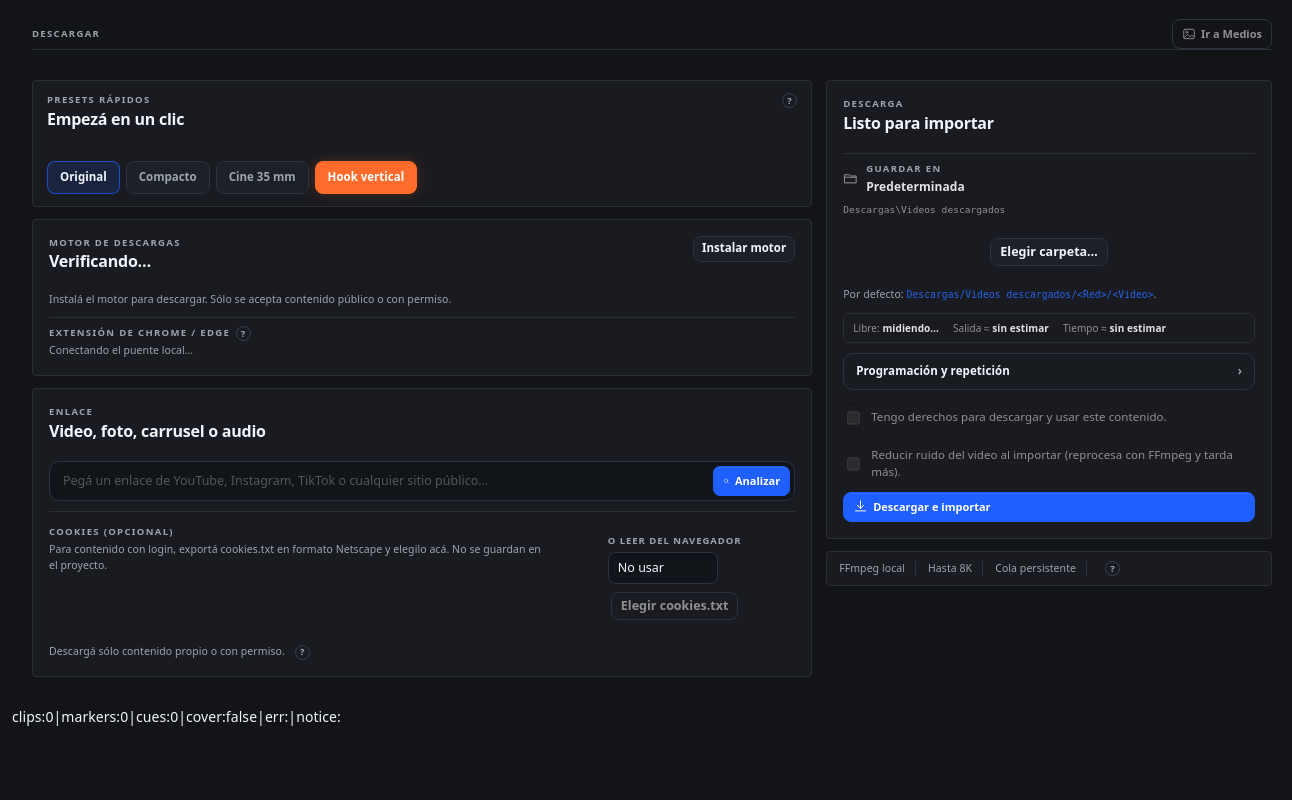
it: descargador · delogo y Lanczos › inserta el clip, los subtítulos y los capítulos en el proyecto
Replace the text in the field named "URL para descargar" with "https://www.youtube.com/watch?v=abc123": (381, 481) [54,466,707,496]
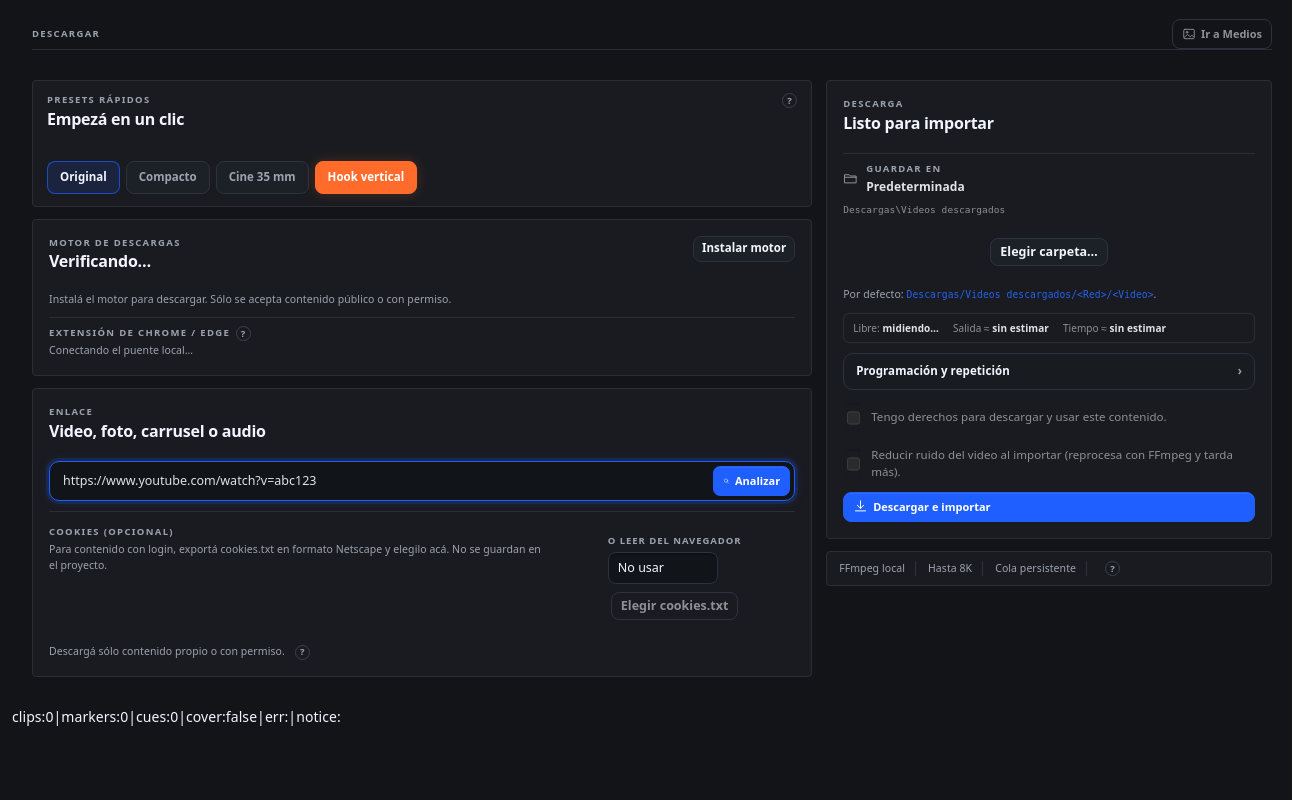
Click the button "Analizar": (752, 481) [713,466,790,496]
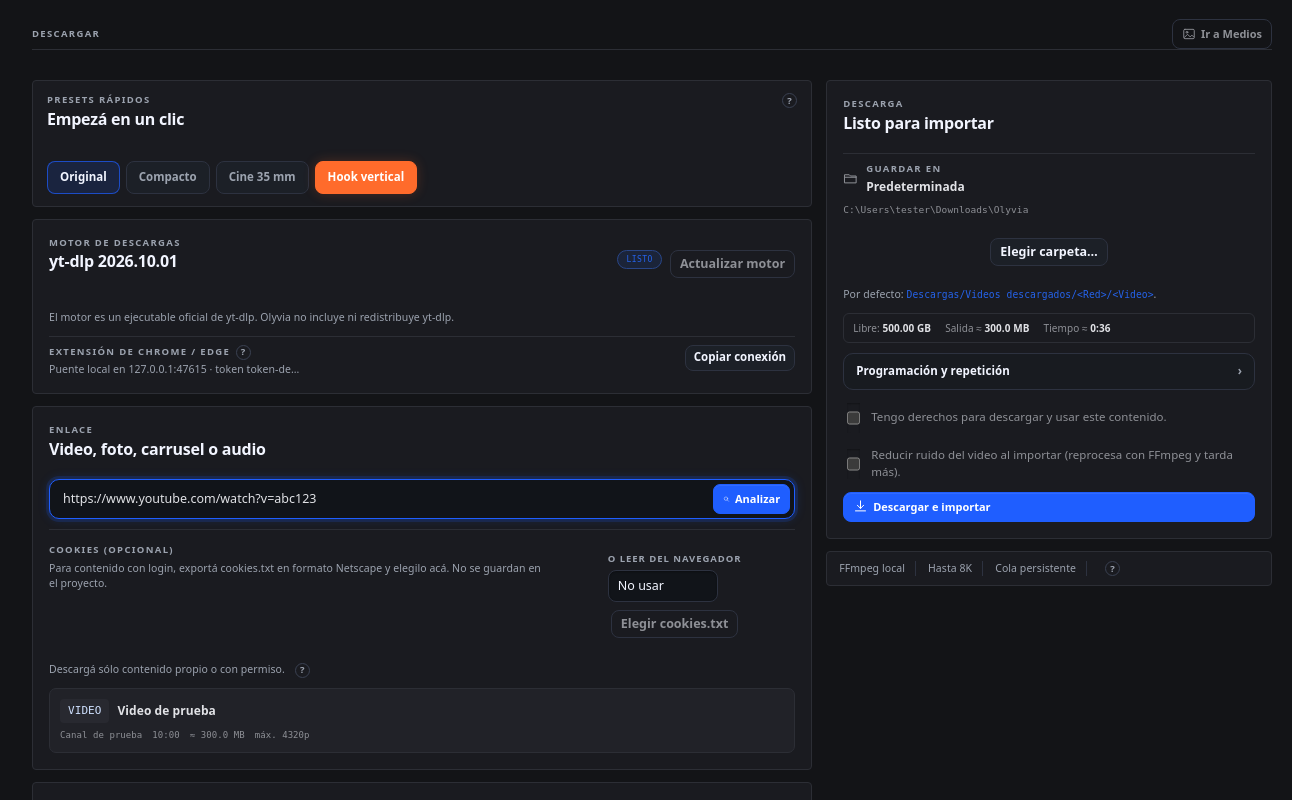
Expected: the text "Video de prueba" is shown, [118,702,216,720]
Click the checkbox labelled "Tengo derechos para descargar y usar este contenido.": (854, 418) [847,403,860,433]
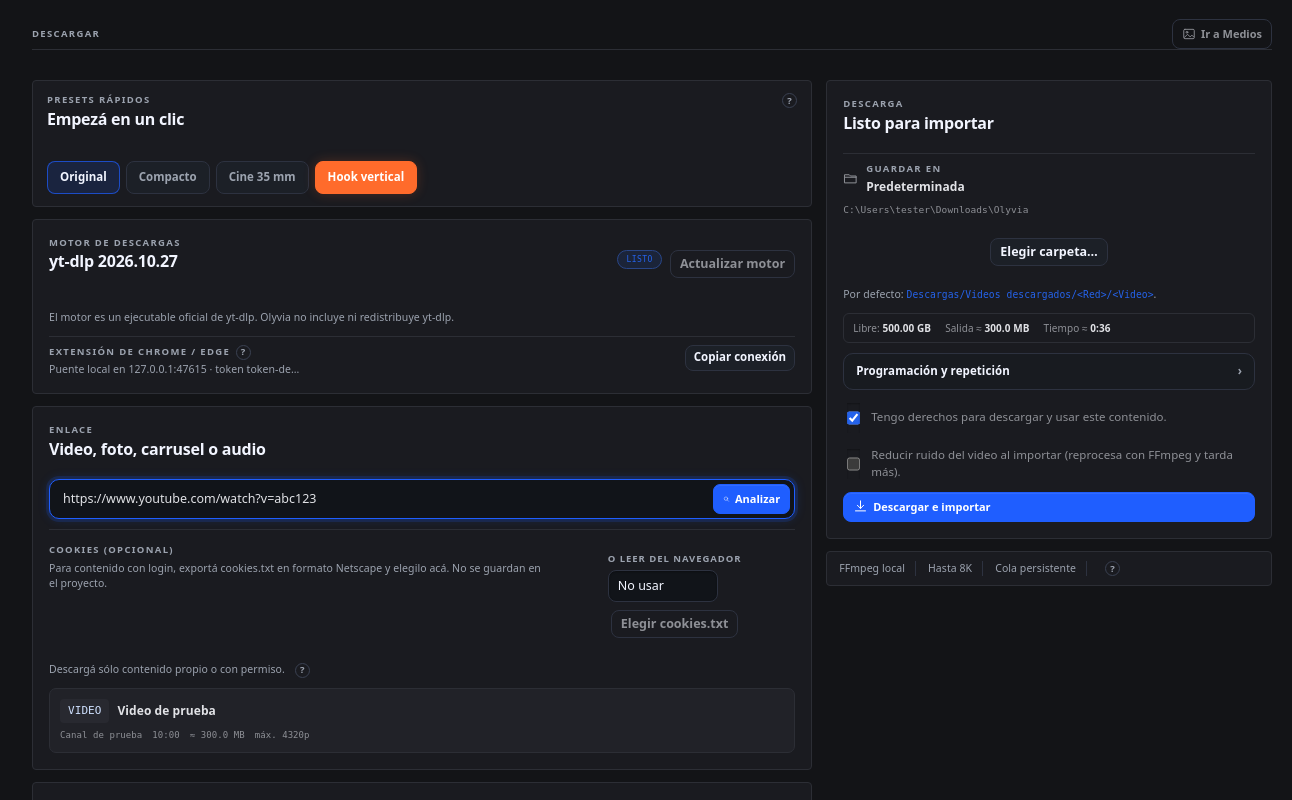
Click the button "Descargar e importar": (932, 506) [843,492,1255,522]
(page scrolled)
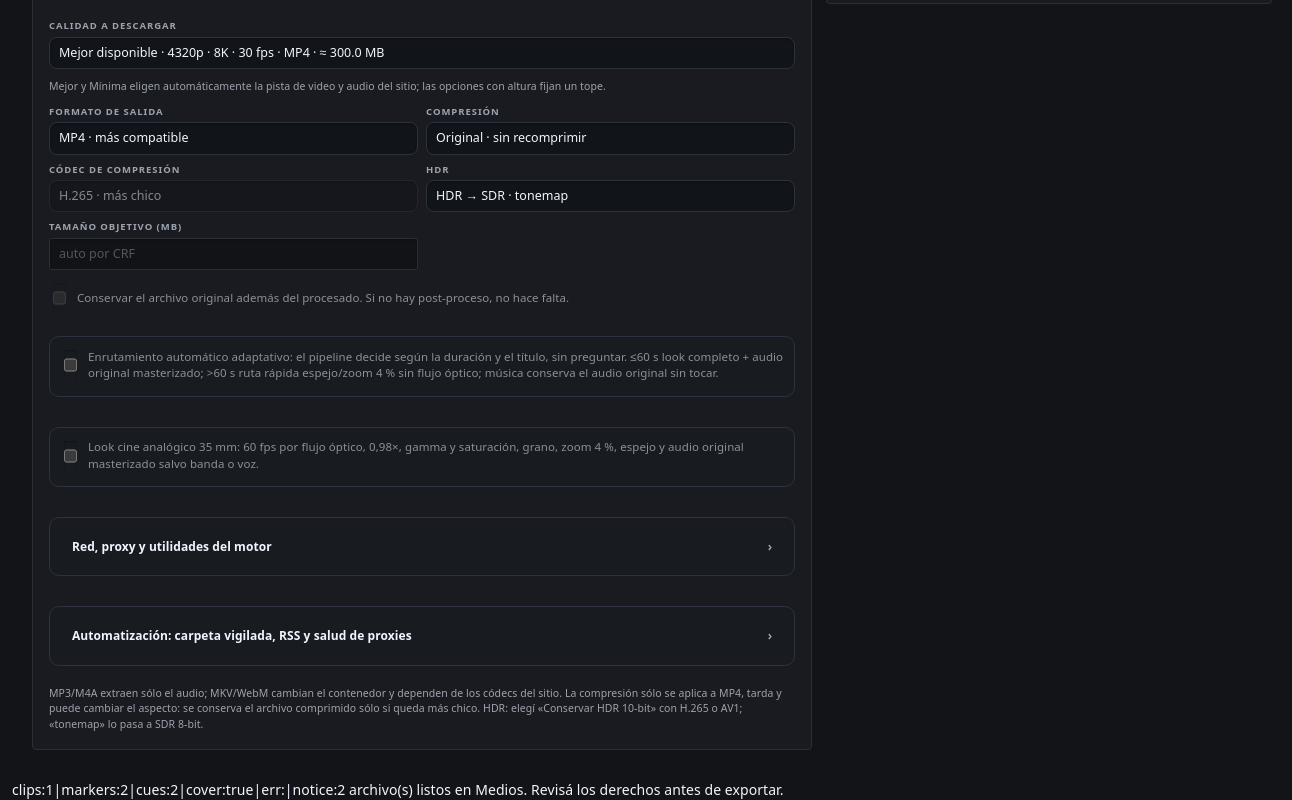
Expected: the text with test id "project-probe" shows "clips:1|markers:2|cues:2|cover:true", [12,780,784,799]
